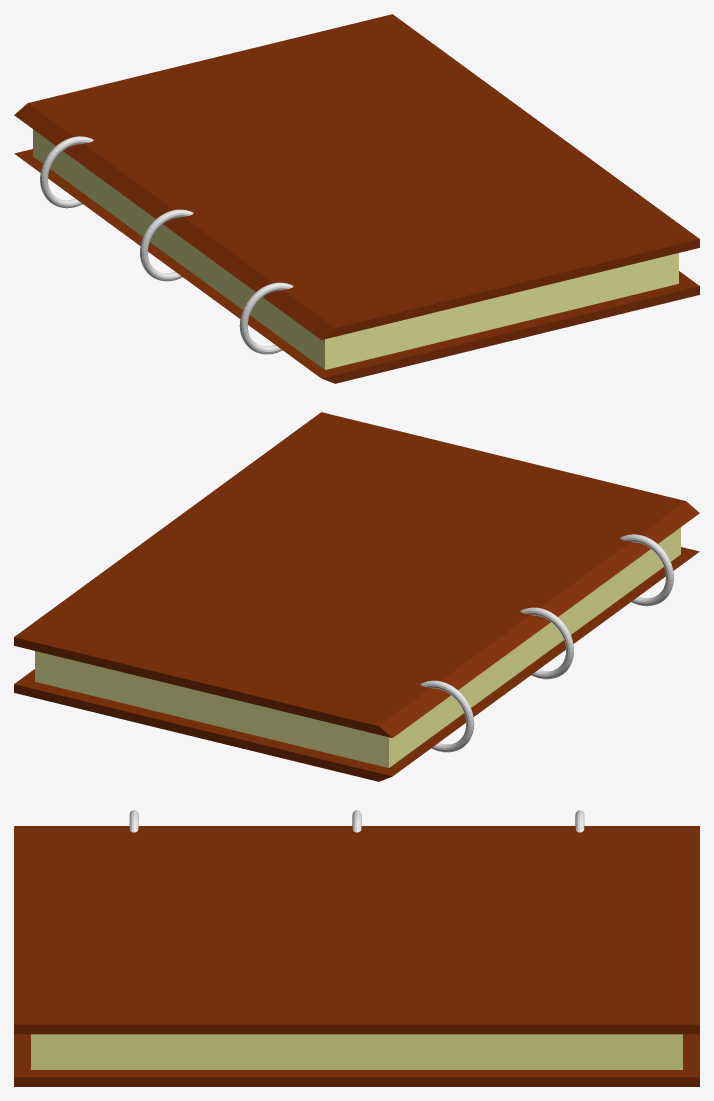
File: MenuBook.fbx
The picture shows the model from 3 angles, top to bottom: view 1: azimuth 30°, elevation 25°; view 2: azimuth 150°, elevation 25°; view 3: azimuth 270°, elevation 25°; orthographic projection. The views are drawn at different scales.
Visible parts, largest first — view 1: Cube.002, Cube, Torus.000, Torus.001, Torus.002; view 2: Cube.002, Cube, Torus.000, Torus.002, Torus.001; view 3: Cube.002, Cube.
Boxes of the visible parts, box(x1,y1,x2,y2) form: Cube.002: box(14, 14, 699, 350); Cube: box(14, 137, 699, 383); Torus.000: box(140, 209, 193, 281); Torus.001: box(40, 136, 93, 208); Torus.002: box(239, 282, 293, 354); Cube.002: box(14, 412, 699, 748); Cube: box(14, 535, 699, 781); Torus.000: box(520, 607, 573, 679); Torus.002: box(620, 534, 673, 606); Torus.001: box(420, 680, 474, 752); Cube.002: box(14, 826, 699, 1048); Cube: box(14, 1034, 699, 1086).
Bounding box in the file's own units: 1.52 × 0.2497 × 2.
